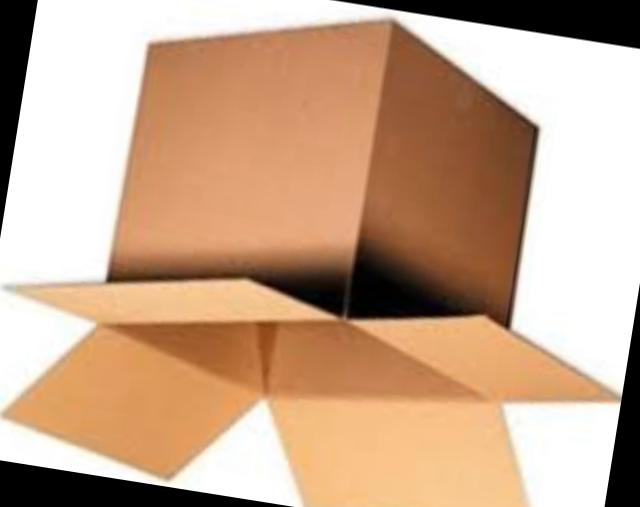cardboard paper: (7, 26, 620, 507)
